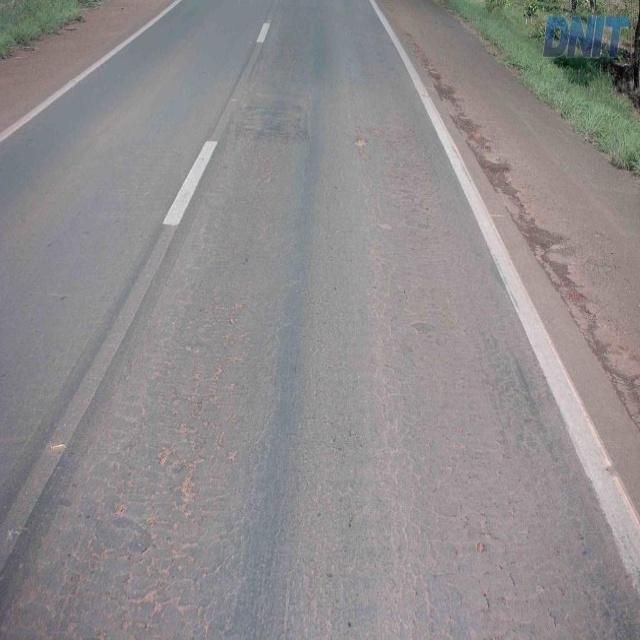pothole: (352, 134, 371, 158)
